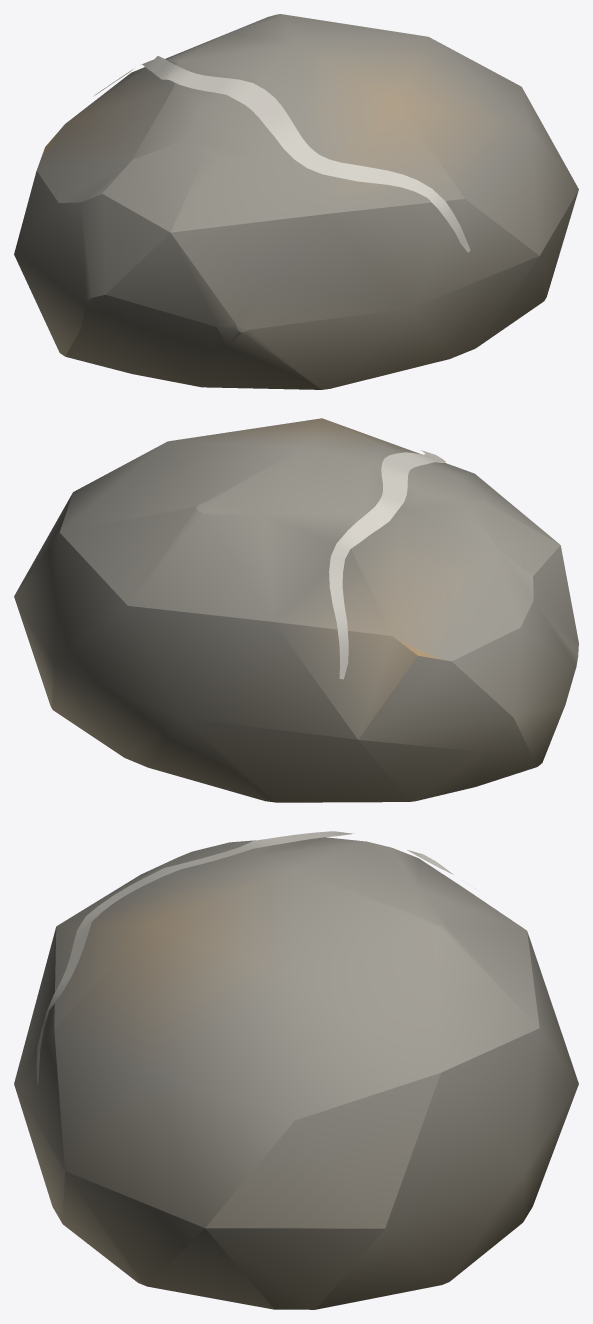
Rendered from beach_rock_b.glb.
3 views of the same model, one above another, from view 1: azimuth 30°, elevation 25°; view 2: azimuth 150°, elevation 25°; view 3: azimuth 270°, elevation 25° (orthographic). The views are drawn at different scales.
Parts seen in each view (by area): view 1: beach_rock_b; view 2: beach_rock_b; view 3: beach_rock_b.
Boxes of the visible parts, <box> form: beach_rock_b: <box>14,14,578,389</box>; beach_rock_b: <box>14,418,578,802</box>; beach_rock_b: <box>14,831,578,1309</box>.
Bounding box in the file's own units: 0.7088 × 0.3517 × 0.5885.
